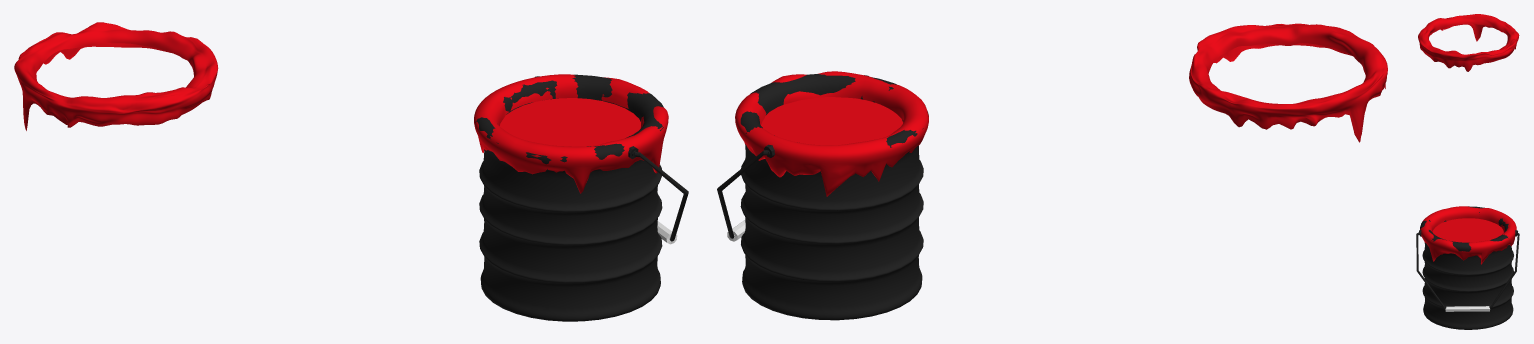
Rendered from potPeinture.fbx.
3 renders of one model, left to right at view 1: azimuth 30°, elevation 25°; view 2: azimuth 150°, elevation 25°; view 3: azimuth 270°, elevation 25°, orthographic. The views are drawn at different scales.
Visible parts, largest first — view 1: Seau, Couleur, Cylinder.007, Poignee; view 2: Seau, Couleur, Cylinder.007, Poignee; view 3: Seau, Couleur, Cylinder.007, Poignee.
Boxes of the visible parts, x1=… form: Seau: x1=475, y1=74, x2=663, y2=321; Couleur: x1=474, y1=74, x2=668, y2=193; Cylinder.007: x1=14, y1=22, x2=218, y2=130; Poignee: x1=535, y1=76, x2=688, y2=244; Seau: x1=740, y1=74, x2=928, y2=320; Couleur: x1=735, y1=71, x2=928, y2=196; Cylinder.007: x1=1189, y1=23, x2=1387, y2=142; Poignee: x1=717, y1=75, x2=868, y2=241; Seau: x1=1420, y1=206, x2=1513, y2=329; Couleur: x1=1420, y1=206, x2=1516, y2=264; Cylinder.007: x1=1418, y1=14, x2=1519, y2=71; Poignee: x1=1416, y1=230, x2=1519, y2=311.
Bounding box in the file's own units: 763 × 392 × 219.
